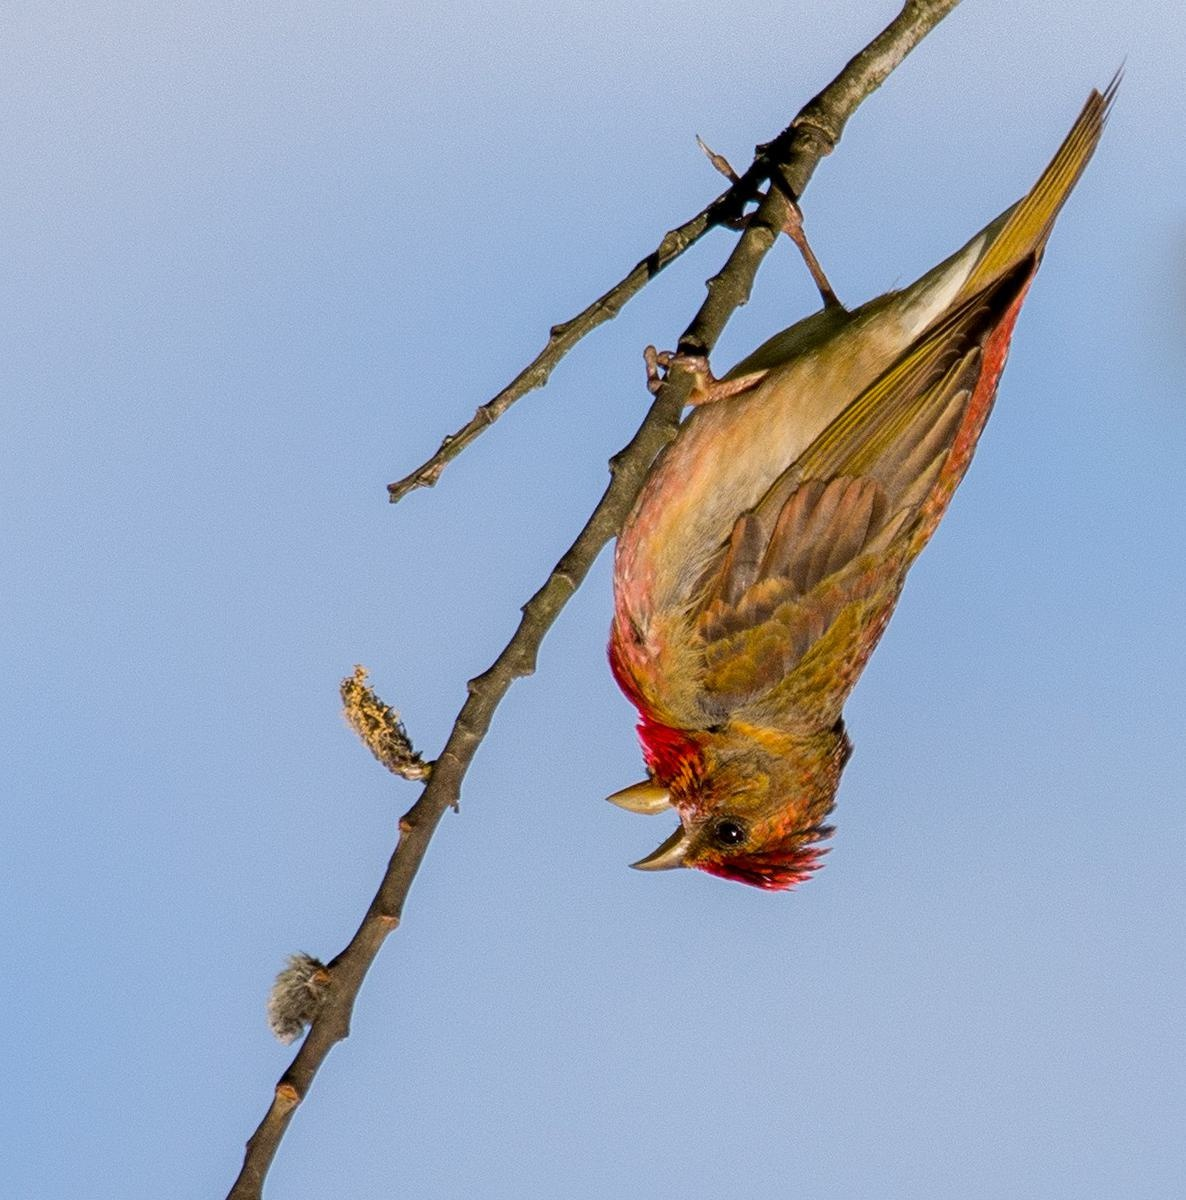rosefinch: (589, 112, 1067, 938)
